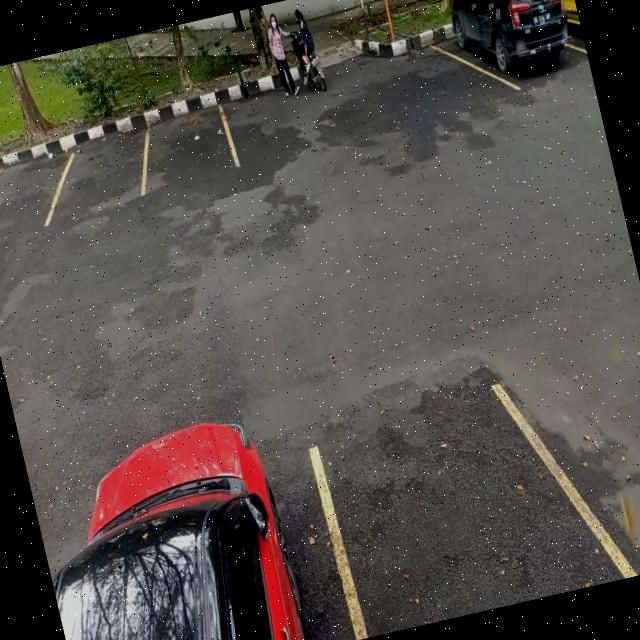empty: (299, 355, 591, 640), (128, 76, 240, 194), (43, 103, 154, 220), (0, 127, 66, 244)
occupied: (439, 0, 585, 100)
